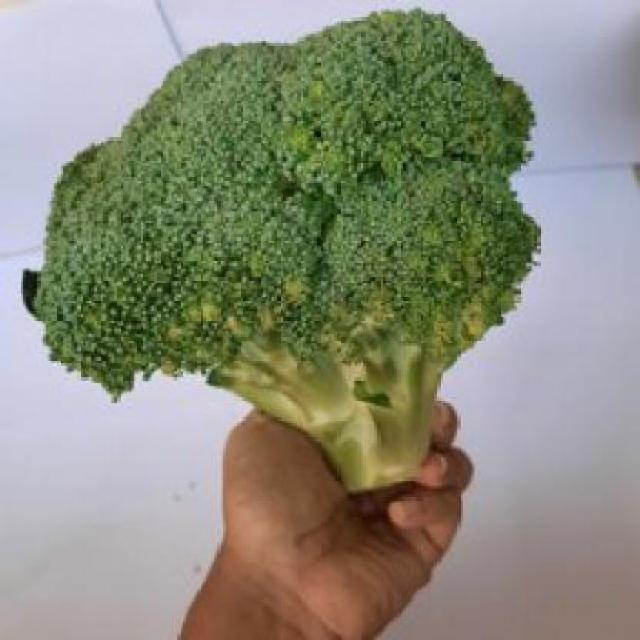broccoli: (14, 34, 552, 483)
